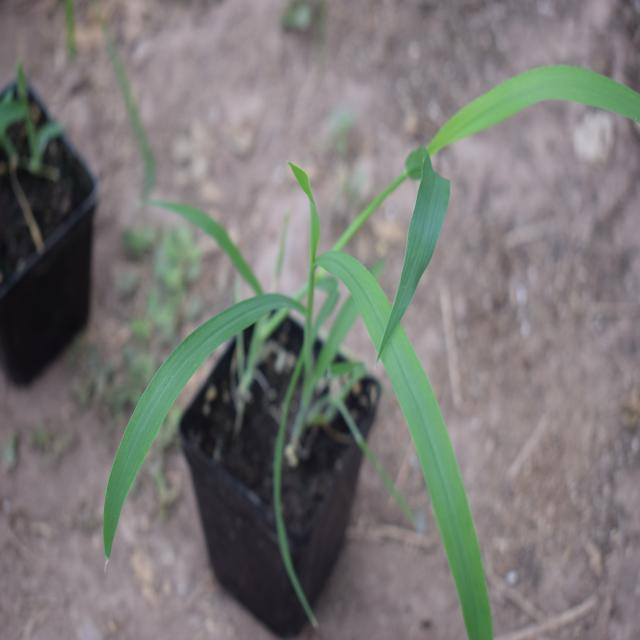crabgrass: (109, 105, 487, 601)
